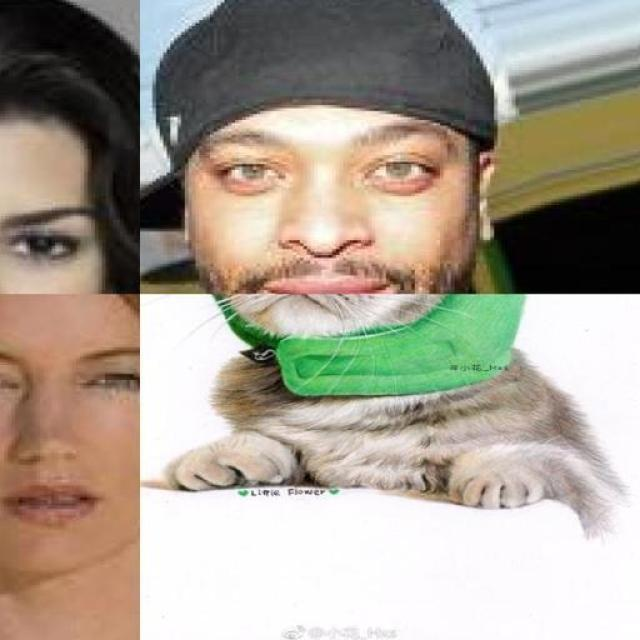bareface: (161, 42, 487, 290)
